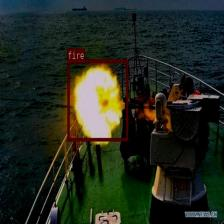fire: (67, 59, 128, 141)
